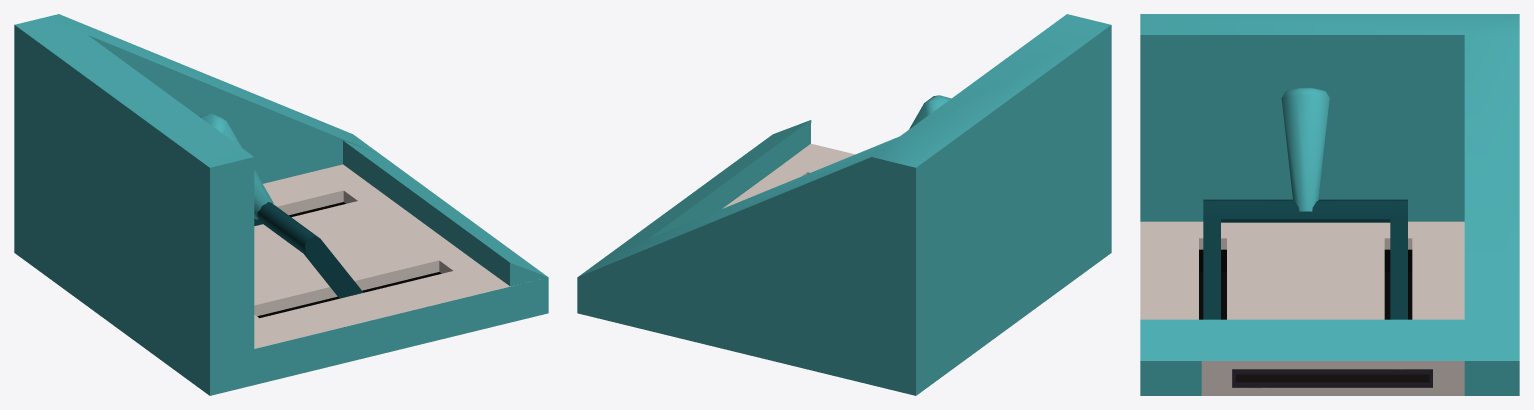
The model's file is surveillance_lever_off.glb.
3 renders of one model, left to right at view 1: azimuth 30°, elevation 25°; view 2: azimuth 150°, elevation 25°; view 3: azimuth 270°, elevation 25°, orthographic. The views are drawn at different scales.
Visible parts, largest first — view 1: surveillance_lever_off; view 2: surveillance_lever_off; view 3: surveillance_lever_off.
Part boxes in pixels (x1=…): surveillance_lever_off: x1=14, y1=14, x2=548, y2=395; surveillance_lever_off: x1=577, y1=14, x2=1111, y2=395; surveillance_lever_off: x1=1140, y1=14, x2=1519, y2=395.
Size of the model in its own units: 0.6281 by 0.411 by 0.6278.
Materials: 4 (1 with a texture image).
